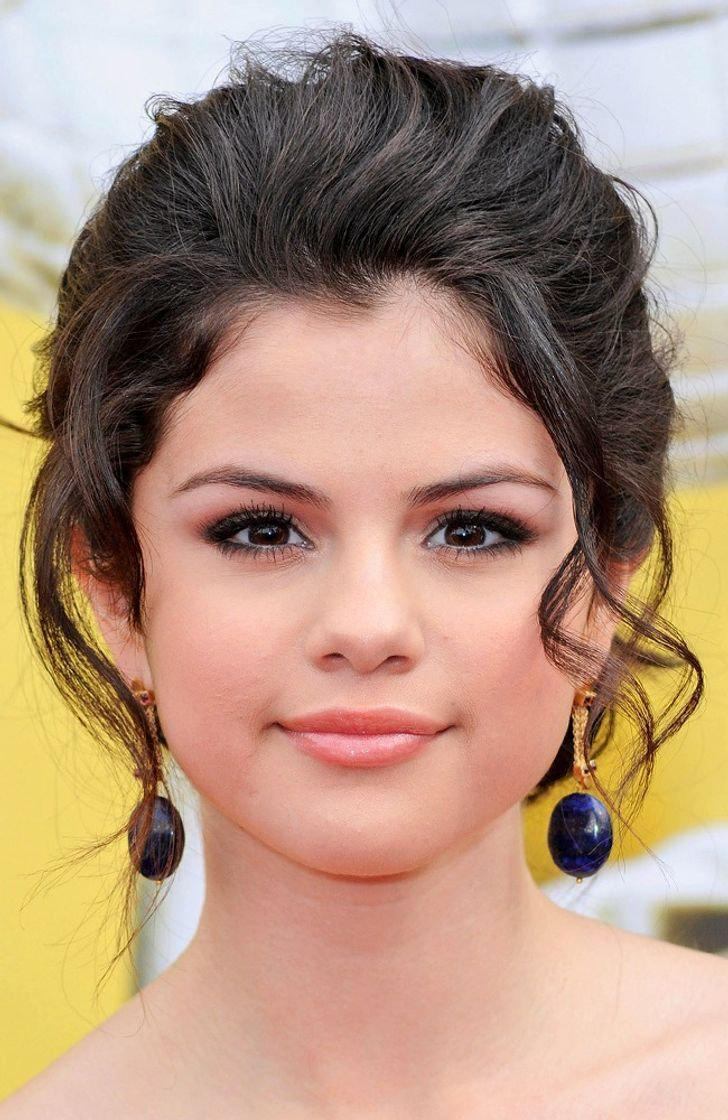Sober: (151, 293, 560, 820)
